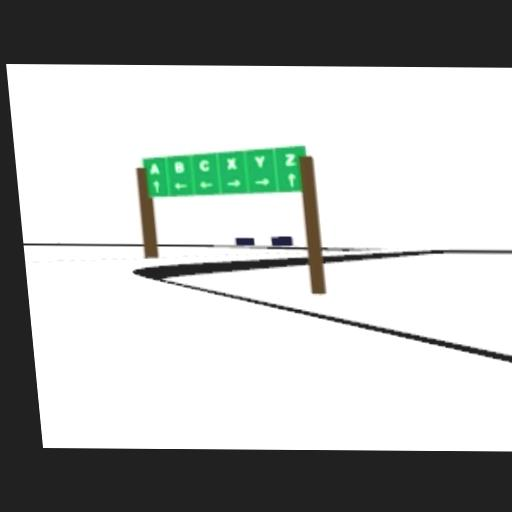A: (149, 161, 159, 173)
B: (174, 159, 184, 171)
C: (198, 158, 210, 172)
Left: (197, 179, 214, 188), (172, 181, 187, 190)
Right: (225, 178, 242, 187), (253, 178, 270, 185)
Straight: (287, 173, 297, 187), (153, 179, 161, 193)
X: (224, 157, 237, 169)
Y: (253, 155, 265, 167)
Z: (283, 151, 297, 165)
